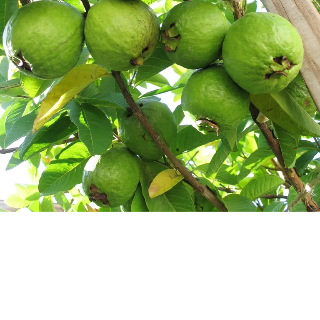oi: (224, 10, 306, 98), (1, 1, 85, 83), (75, 1, 160, 77), (153, 1, 228, 83), (177, 59, 253, 132), (78, 137, 148, 209)
